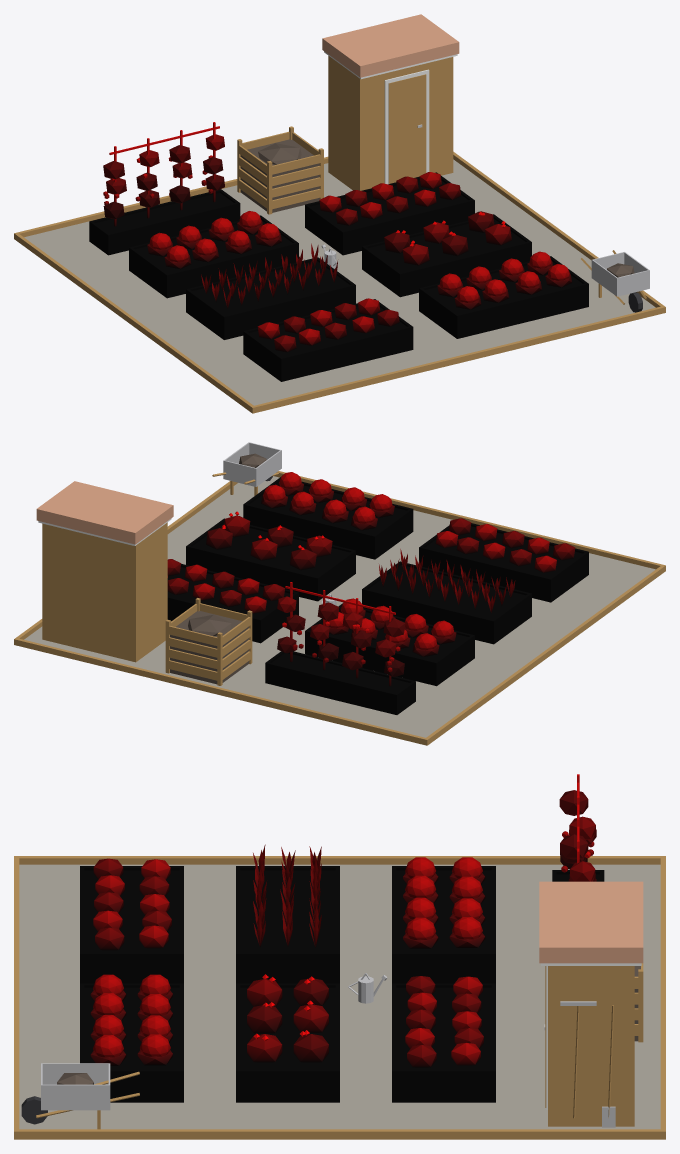
File: veg_garden.high.glb
3 renders of one model, top to bottom at view 1: azimuth 30°, elevation 25°; view 2: azimuth 150°, elevation 25°; view 3: azimuth 270°, elevation 25°, orthographic. The views are drawn at different scales.
Visible parts, largest first — view 1: Veg_garden, Veg_beds; view 2: Veg_garden, Veg_beds; view 3: Veg_garden, Veg_beds.
Part boxes in pixels (x1,y1,x2,y2): Veg_garden: (14, 14, 665, 413); Veg_beds: (89, 122, 588, 381); Veg_garden: (14, 442, 665, 745); Veg_beds: (167, 472, 588, 714); Veg_garden: (14, 856, 665, 1139); Veg_beds: (80, 774, 604, 1102).
Size of the model in its own units: 7.52 by 2.32 by 7.52.
